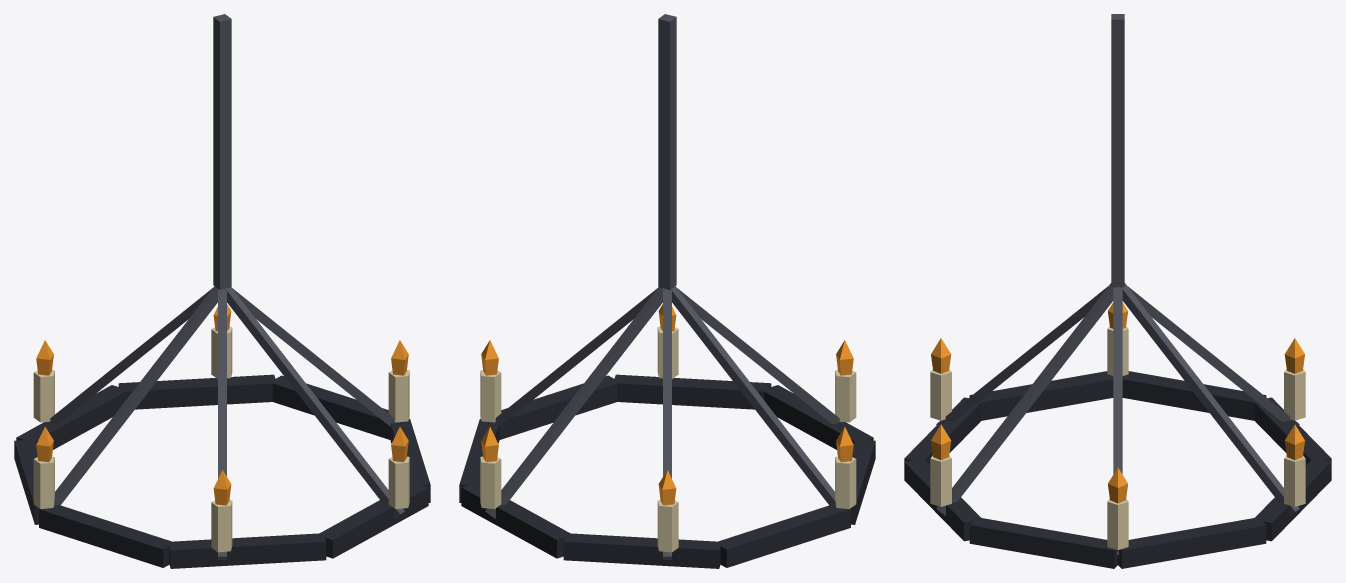
File: chandelier_iron.fbx
The picture shows the model from 3 angles, left to right: view 1: azimuth 30°, elevation 25°; view 2: azimuth 150°, elevation 25°; view 3: azimuth 270°, elevation 25°; orthographic projection.
Parts seen in each view (by area): view 1: chandelier_iron; view 2: chandelier_iron; view 3: chandelier_iron.
Boxes of the visible parts, x1,y1,x2,y2 form: chandelier_iron: (14,14,430,568); chandelier_iron: (459,14,875,568); chandelier_iron: (904,14,1331,568).
Bounding box in the file's own units: 1.89 × 2.25 × 1.88.
